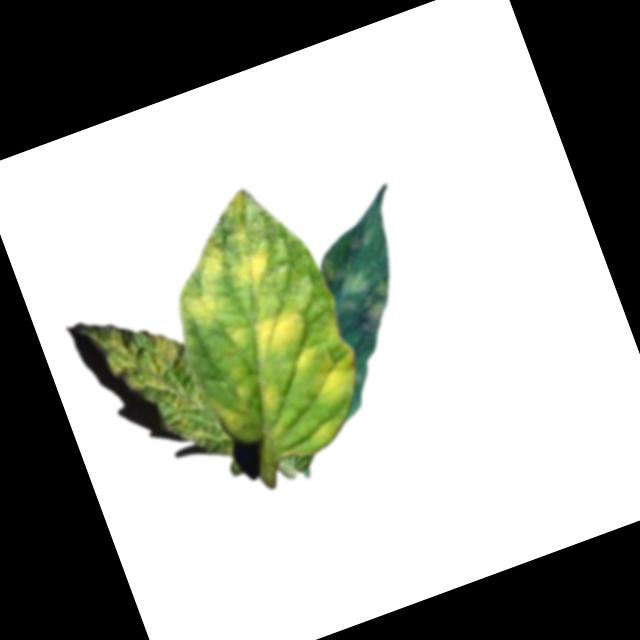Leaf_Mold: (87, 298, 239, 487), (173, 187, 278, 302), (320, 242, 403, 345), (215, 299, 312, 375), (282, 331, 368, 410), (225, 371, 286, 426), (175, 284, 224, 337)
